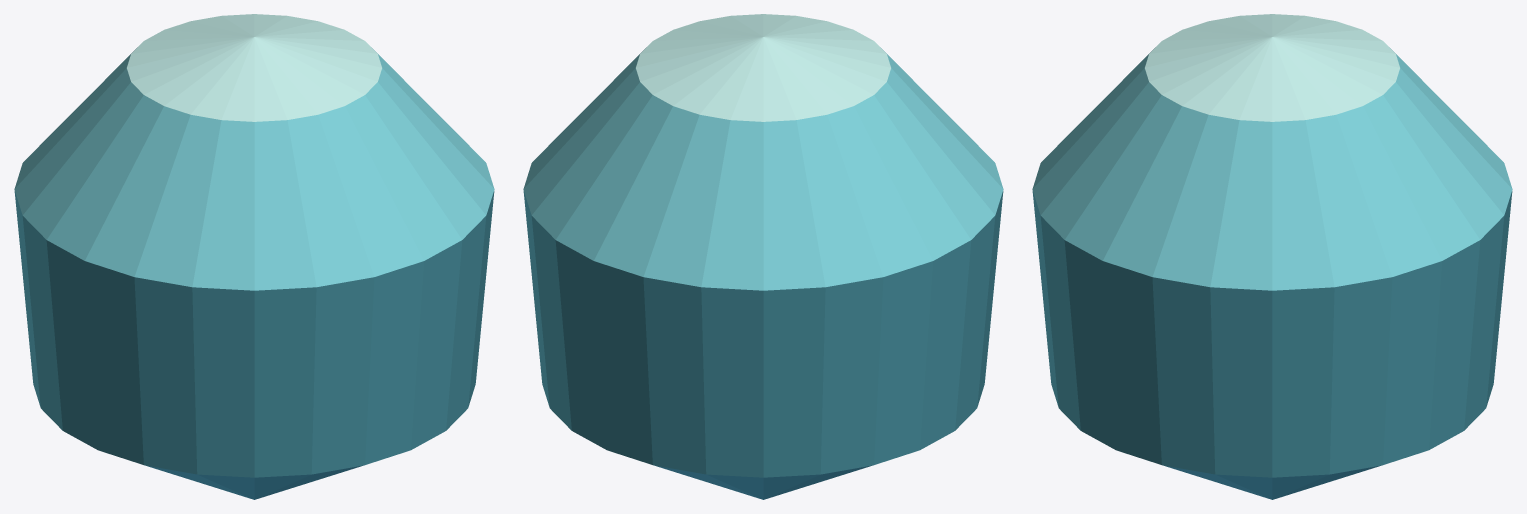
File: sky_underwater_day.glb
3 renders of one model, left to right at view 1: azimuth 30°, elevation 25°; view 2: azimuth 150°, elevation 25°; view 3: azimuth 270°, elevation 25°, orthographic.
Parts seen in each view (by area): view 1: skyband2, skyband1, skyband0, skyband3; view 2: skyband2, skyband1, skyband0, skyband3; view 3: skyband2, skyband1, skyband0, skyband3.
Part boxes in pixels (<box>): skyband2: <box>14,191,494,477</box>; skyband1: <box>14,47,494,290</box>; skyband0: <box>127,14,381,121</box>; skyband3: <box>145,465,363,499</box>; skyband2: <box>523,191,1003,477</box>; skyband1: <box>523,47,1003,290</box>; skyband0: <box>636,14,890,121</box>; skyband3: <box>654,465,872,499</box>; skyband2: <box>1032,191,1512,477</box>; skyband1: <box>1032,47,1512,290</box>; skyband0: <box>1145,14,1399,121</box>; skyband3: <box>1163,465,1381,499</box>.
Bounding box in the file's own units: 169 × 180 × 169.
